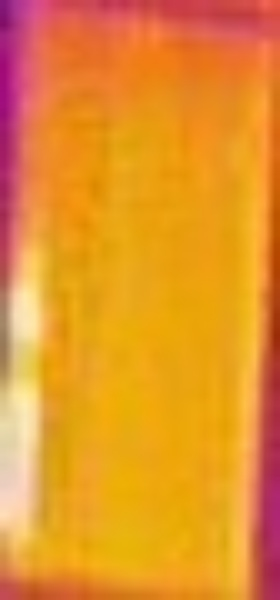Diode: (1, 239, 52, 538)
